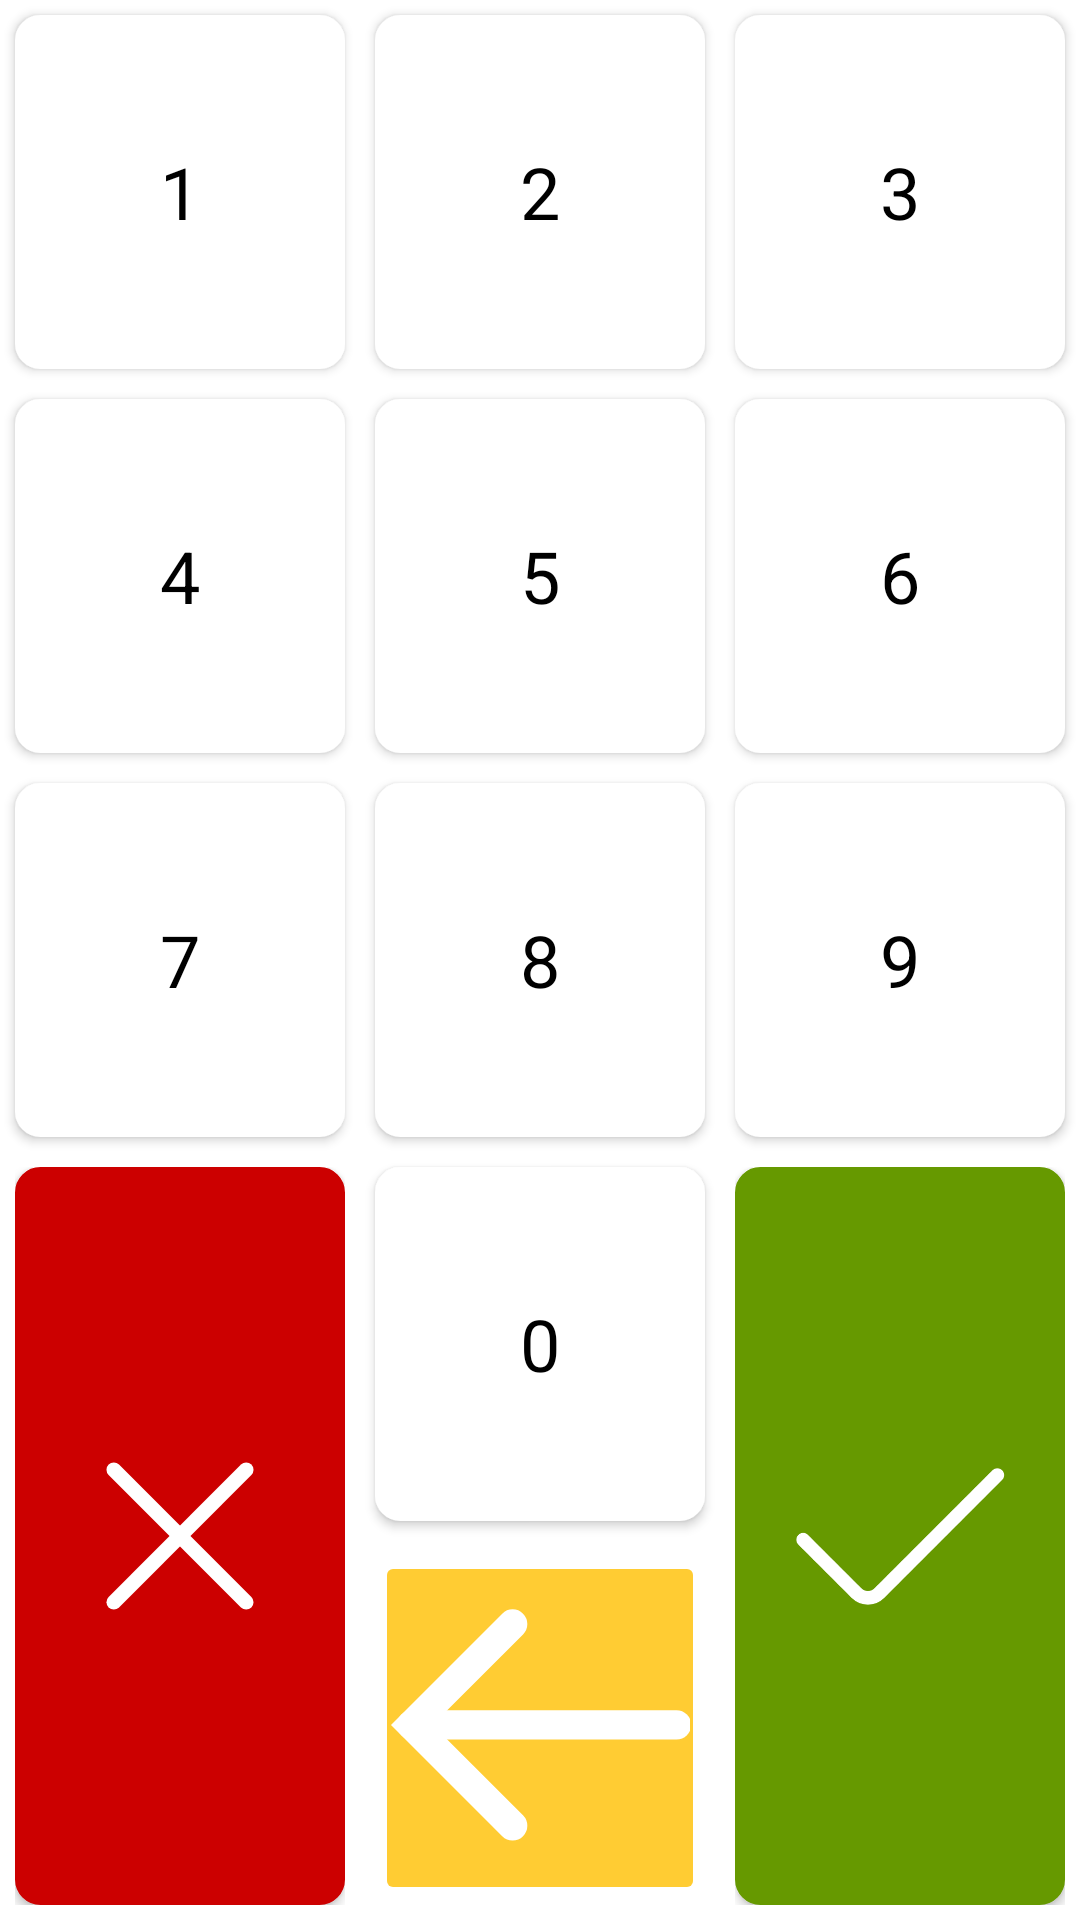

Icons on this 1080px×1920px Android screen, each with the point to tap as (x,y):
back: (540,1728)
